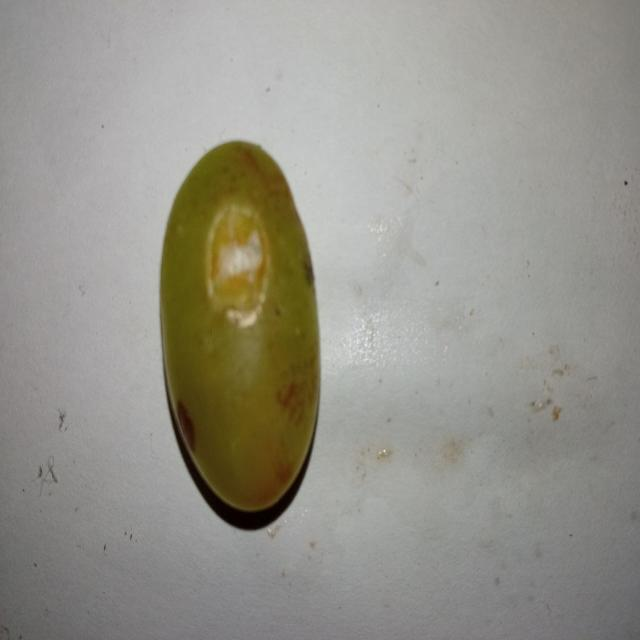rotten_grape: (161, 144, 322, 516)
